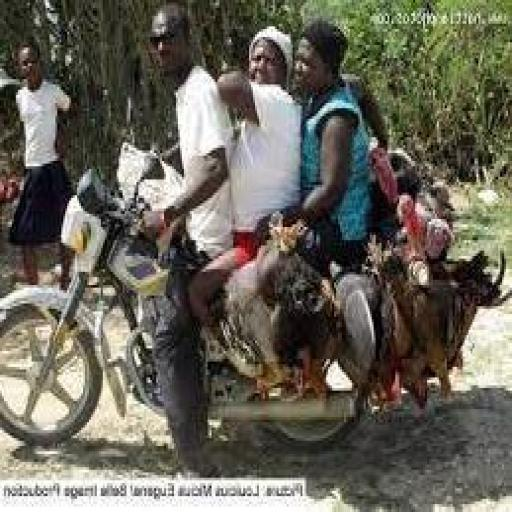no helmet: (131, 1, 234, 111)
triple riding: (0, 21, 411, 462)
